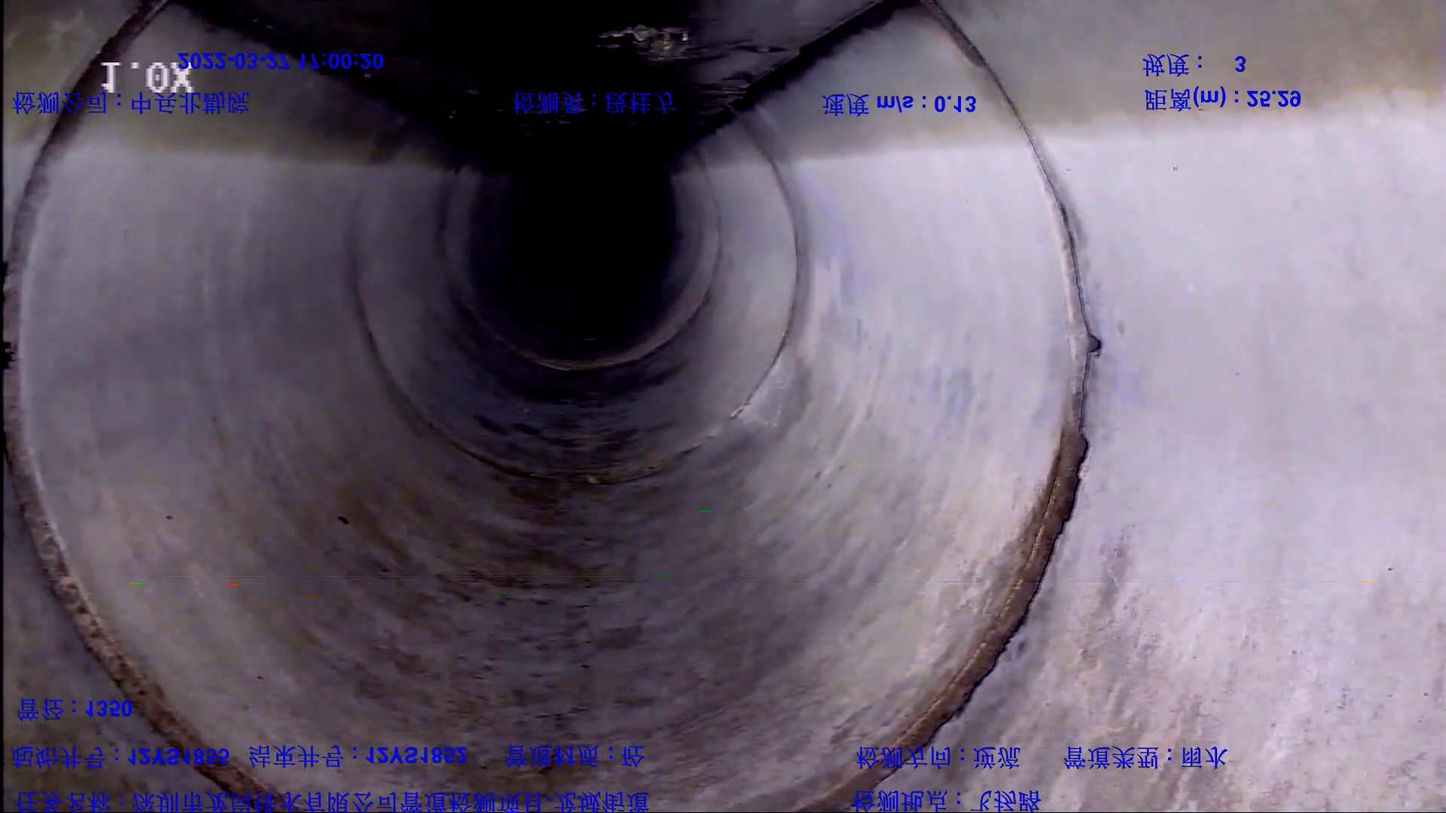CKTJ: (792, 3, 1106, 812), (4, 2, 311, 812)
